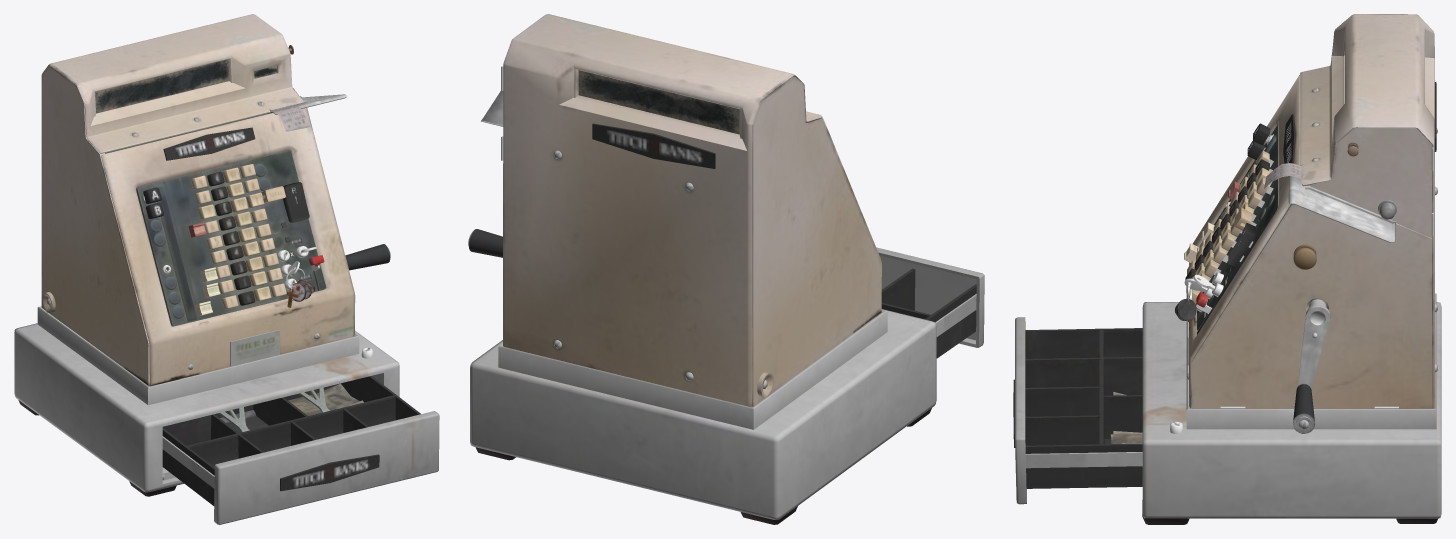
The model's file is espresso_old_tripo_clean.glb.
The picture shows the model from 3 angles, left to right: view 1: azimuth 30°, elevation 25°; view 2: azimuth 150°, elevation 25°; view 3: azimuth 270°, elevation 25°; orthographic projection. The views are drawn at different scales.
Parts seen in each view (by area): view 1: CashRegister_01_body, CashRegister_011_drawer; view 2: CashRegister_01_body, CashRegister_011_drawer; view 3: CashRegister_01_body, CashRegister_011_drawer.
Part boxes in pixels (<box>): CashRegister_01_body: <box>14,14,399,496</box>; CashRegister_011_drawer: <box>162,376,439,524</box>; CashRegister_01_body: <box>468,14,936,524</box>; CashRegister_011_drawer: <box>876,247,984,358</box>; CashRegister_01_body: <box>1142,14,1441,524</box>; CashRegister_011_drawer: <box>1013,317,1142,504</box>.
Size of the model in its own units: 0.6004 by 0.6214 by 0.6242.
Materials: 2 (2 with a texture image).
